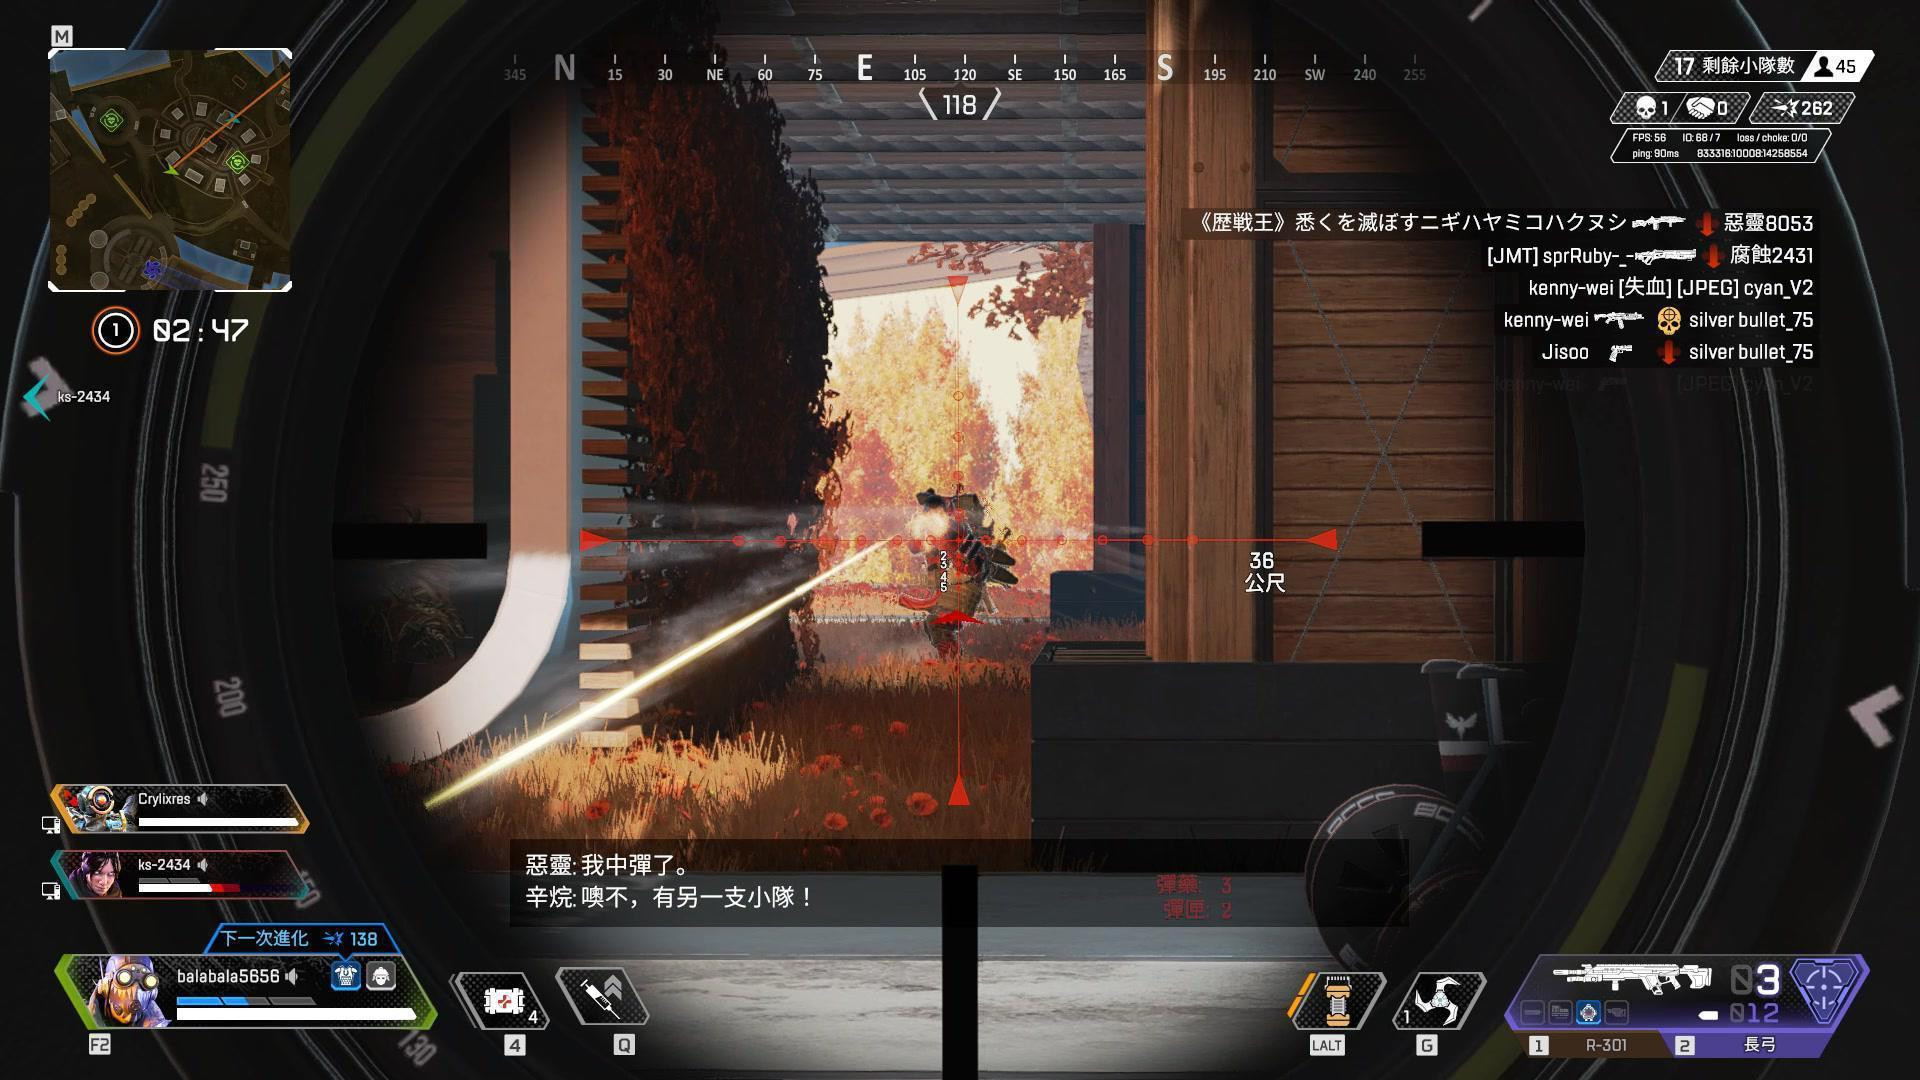avatar: (908, 482, 990, 666)
